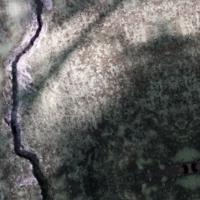crack: (0, 2, 63, 199)
